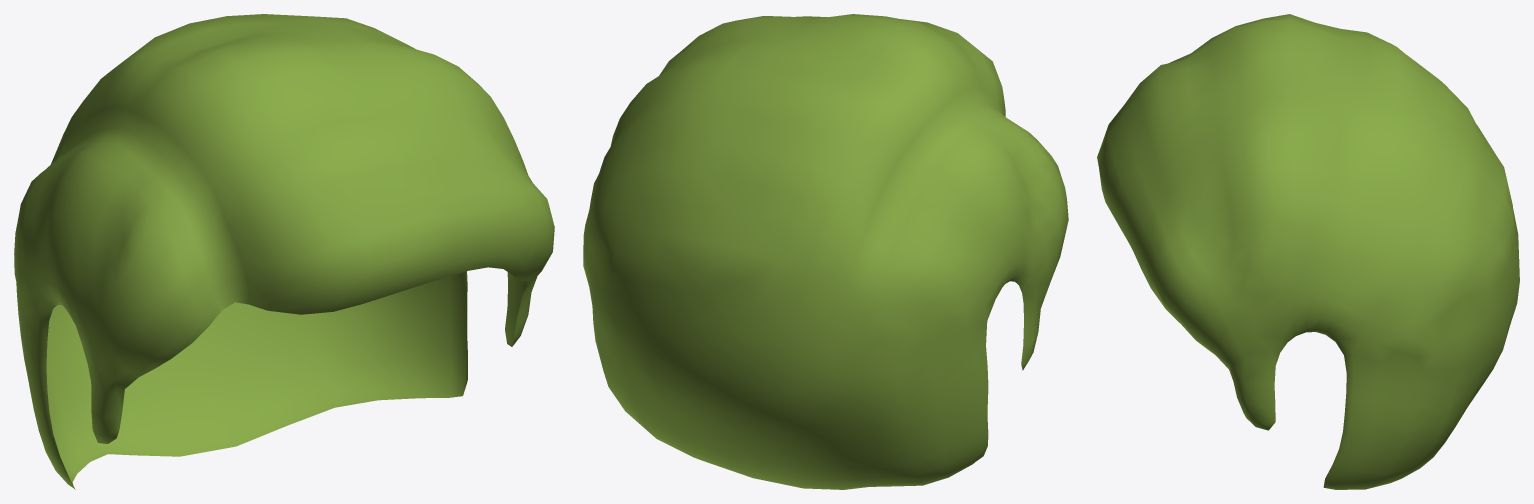
The picture shows the model from 3 angles, left to right: view 1: azimuth 30°, elevation 25°; view 2: azimuth 150°, elevation 25°; view 3: azimuth 270°, elevation 25°; orthographic projection. The views are drawn at different scales.
Visible parts, largest first — view 1: sculpt9:ZBrush_defualt_group; view 2: sculpt9:ZBrush_defualt_group; view 3: sculpt9:ZBrush_defualt_group.
Part boxes in pixels (x1=…): sculpt9:ZBrush_defualt_group: x1=14, y1=14, x2=554, y2=489; sculpt9:ZBrush_defualt_group: x1=583, y1=14, x2=1068, y2=489; sculpt9:ZBrush_defualt_group: x1=1097, y1=14, x2=1519, y2=489.
Bounding box in the file's own units: 0.8599 × 0.8583 × 0.8353.
